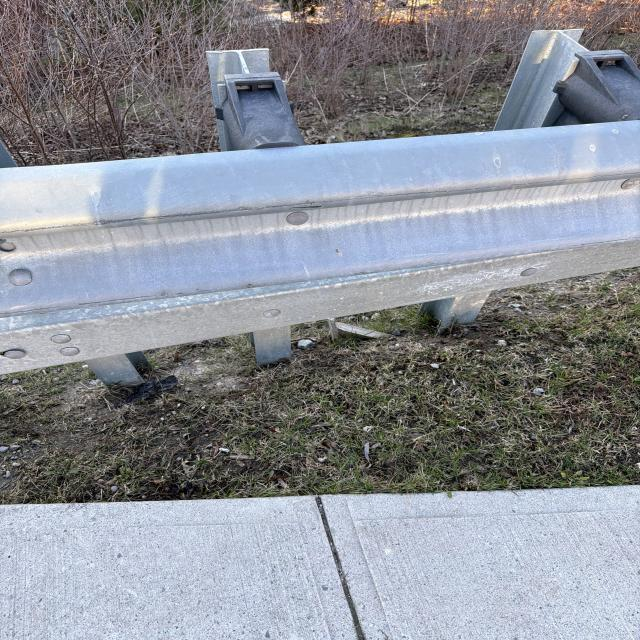Guard rail: (22, 129, 640, 322)
